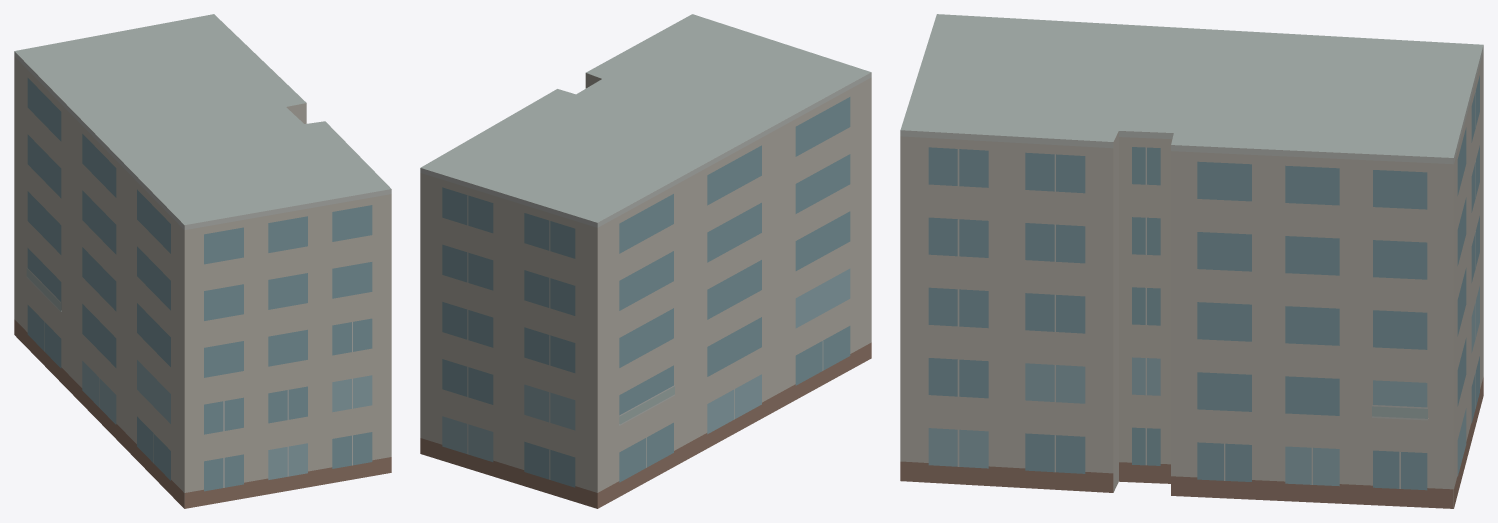
The model's file is survey-upis-32565966.glb.
The picture shows the model from 3 angles, left to right: view 1: azimuth 30°, elevation 25°; view 2: azimuth 150°, elevation 25°; view 3: azimuth 270°, elevation 25°; orthographic projection. The views are drawn at different scales.
Parts seen in each view (by area): view 1: survey-upis-32565966.tmp; view 2: survey-upis-32565966.tmp; view 3: survey-upis-32565966.tmp.
Boxes of the visible parts, <box> form: survey-upis-32565966.tmp: <box>14,14,391,508</box>; survey-upis-32565966.tmp: <box>420,14,871,508</box>; survey-upis-32565966.tmp: <box>900,14,1483,508</box>.
Bounding box in the file's own units: 12.2 × 13.85 × 20.87.
